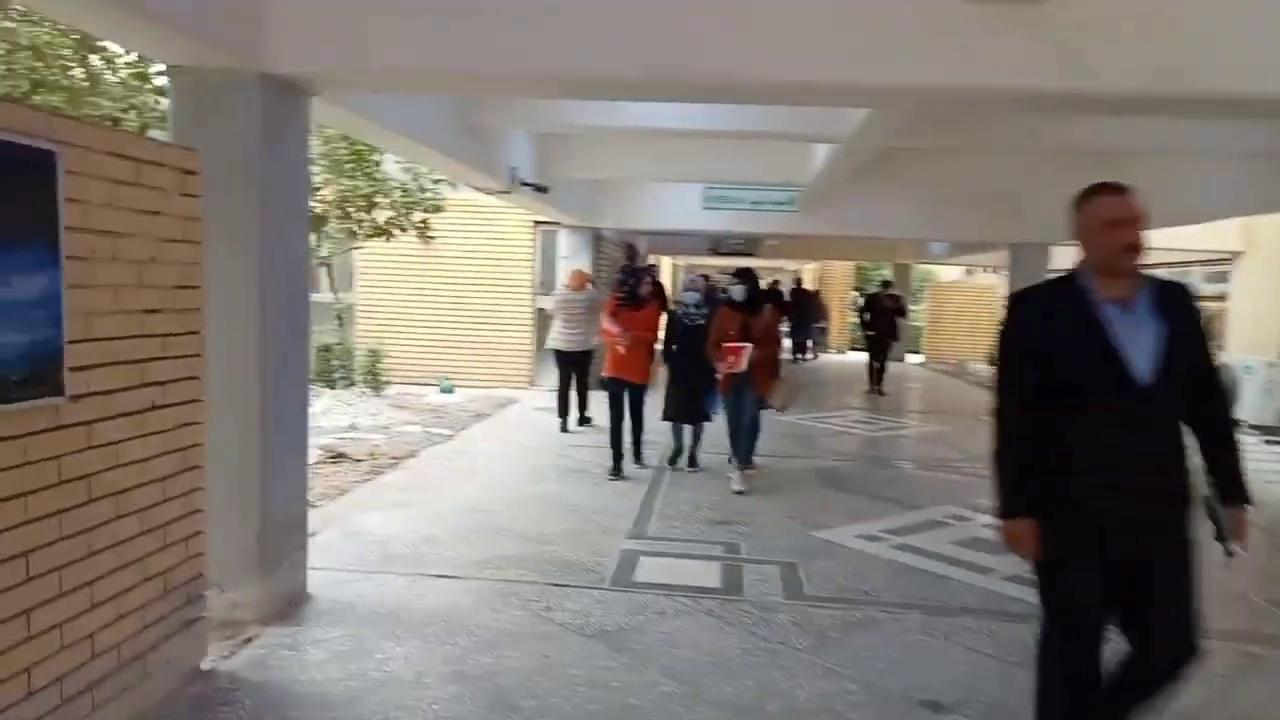person: (992, 179, 1254, 718), (704, 266, 782, 493), (598, 263, 661, 480), (661, 274, 719, 472), (542, 268, 604, 432), (857, 279, 907, 395)
tree: (305, 122, 450, 391), (0, 0, 170, 138), (359, 346, 387, 393)
